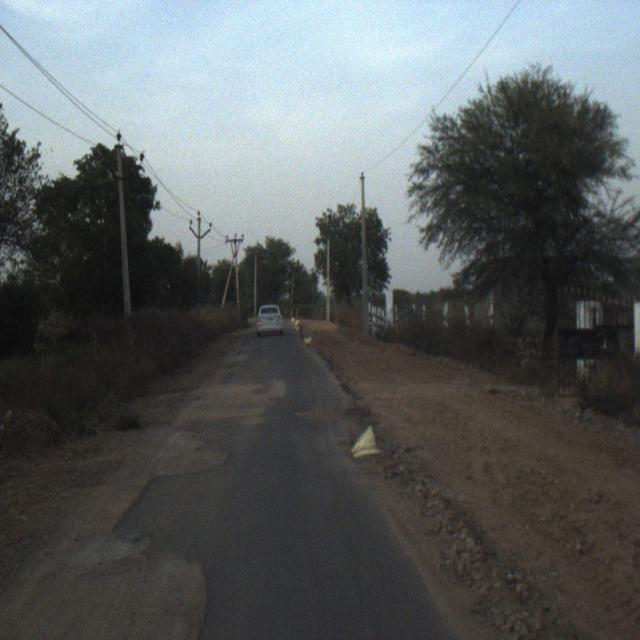Pothole: (3, 523, 207, 640), (161, 419, 234, 474), (352, 427, 381, 461)
